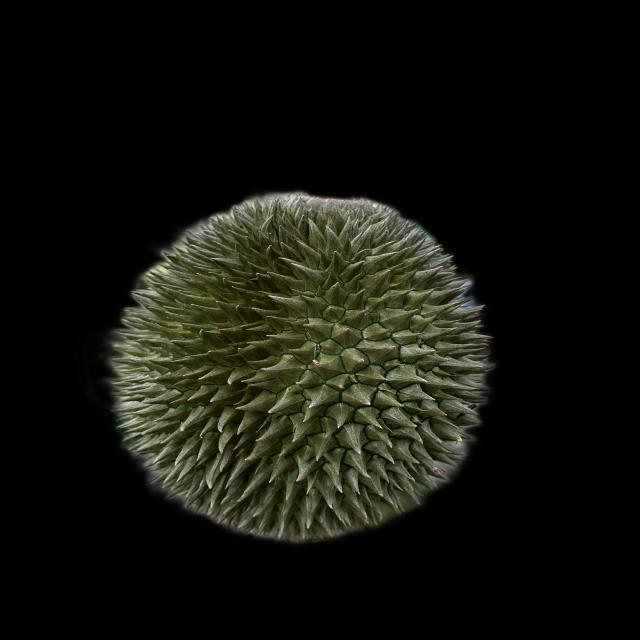immature: (103, 189, 493, 541)
